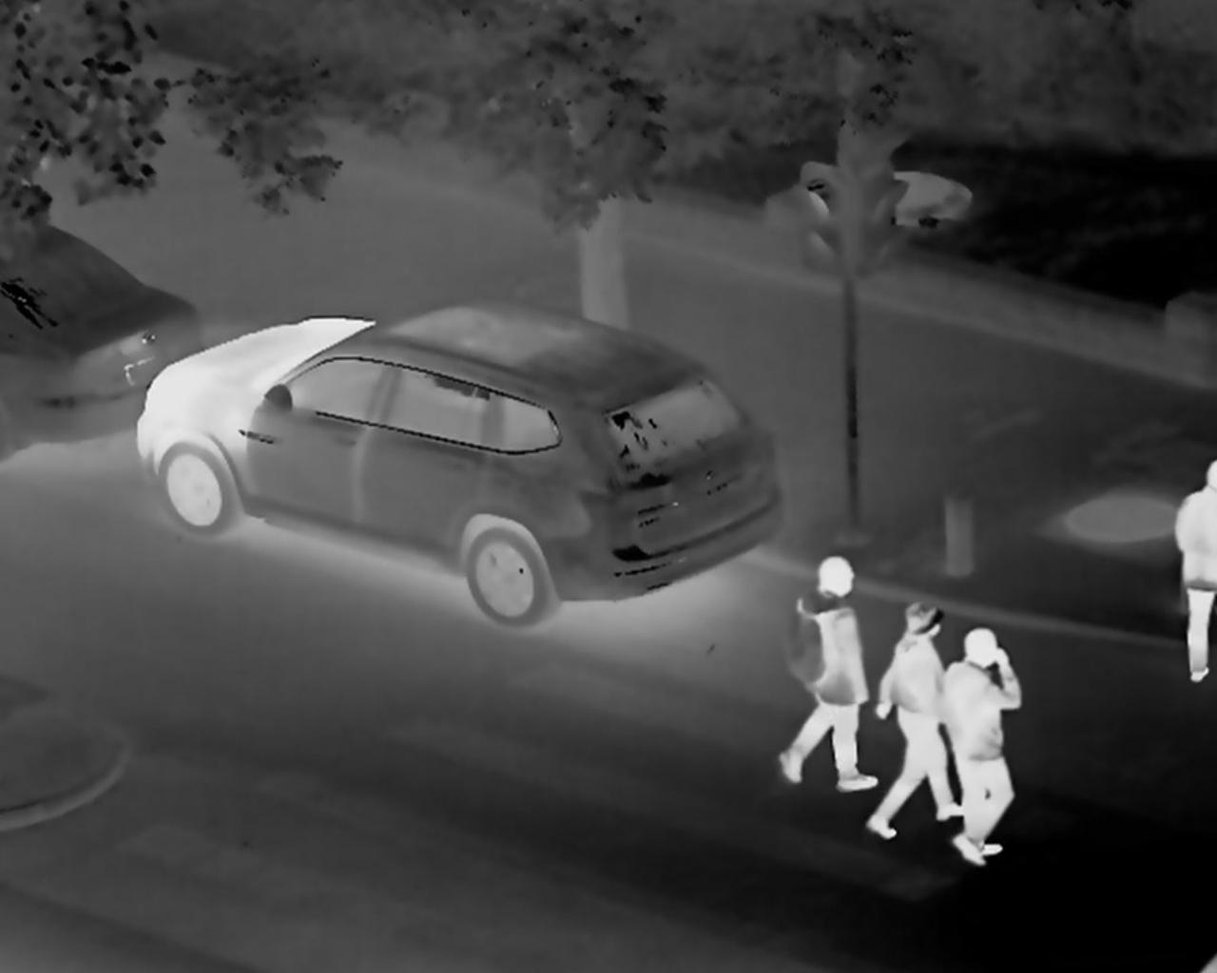person: (749, 527, 868, 792), (945, 622, 1019, 868), (879, 599, 924, 828), (1168, 445, 1217, 626)
